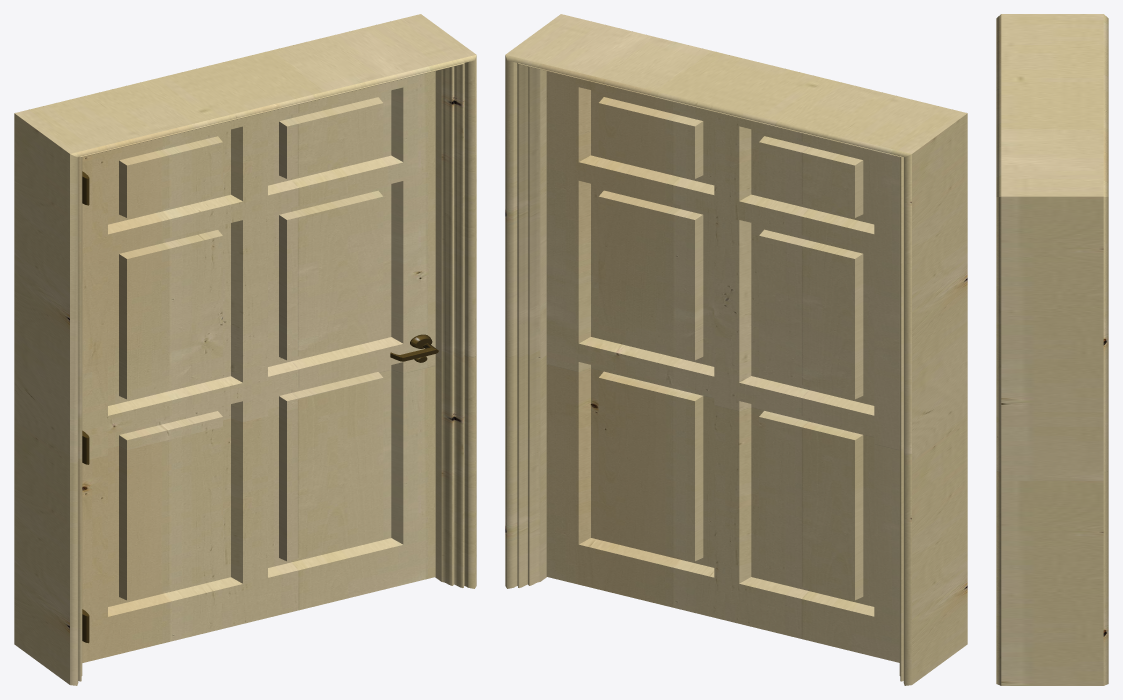
File: DoorS3.obj
The picture shows the model from 3 angles, left to right: view 1: azimuth 30°, elevation 25°; view 2: azimuth 150°, elevation 25°; view 3: azimuth 270°, elevation 25°; orthographic projection. The views are drawn at different scales.
Visible parts, largest first — view 1: door; view 2: door; view 3: door.
Boxes of the visible parts, x1=… form: door: x1=14, y1=14, x2=476, y2=685; door: x1=505, y1=14, x2=967, y2=685; door: x1=996, y1=14, x2=1108, y2=685.
Bounding box in the file's own units: 1.3 × 1.62 × 0.3378.
1 material, 1 textured.
